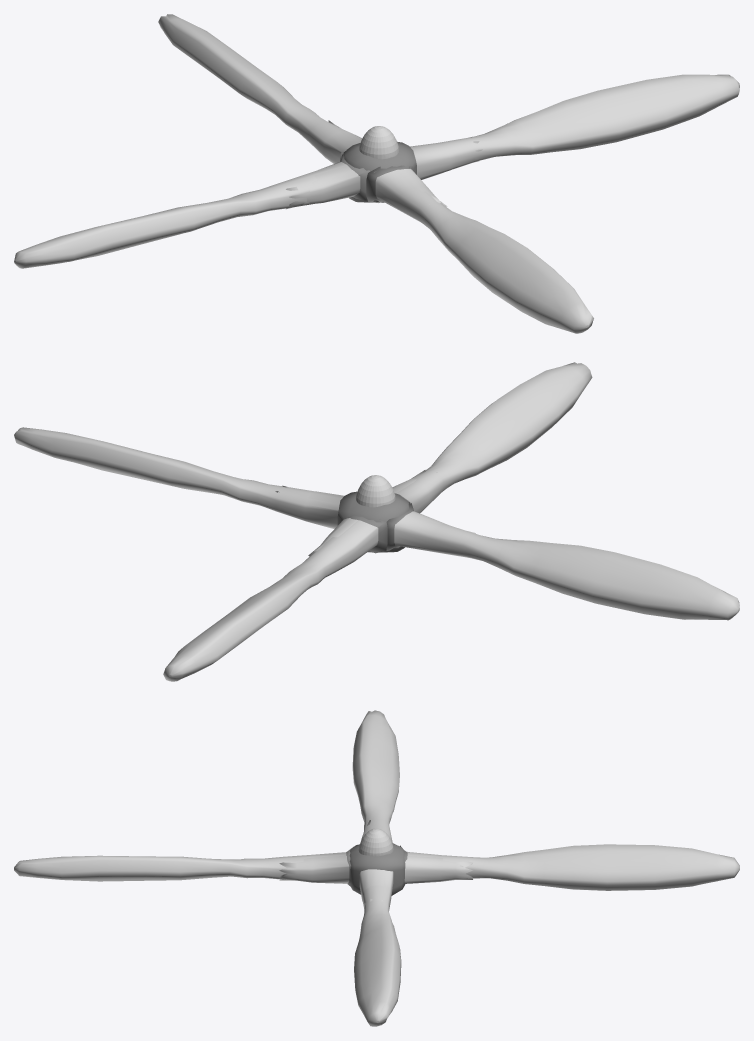
File: fullparts.fbx
3 views of the same model, one above another, from view 1: azimuth 30°, elevation 25°; view 2: azimuth 150°, elevation 25°; view 3: azimuth 270°, elevation 25° (orthographic). The views are drawn at different scales.
Visible parts, largest first — view 1: blade01, blade02, blade04, blade03, midle, bblade3, bblade; view 2: blade04, blade02, blade01, blade03, midle; view 3: blade03, blade02, blade01, blade04, midle, bblade1, bblade2, bblade.
Part boxes in pixels (<box>): blade01: <box>410,74,739,169</box>; blade02: <box>366,165,593,333</box>; blade04: <box>14,154,367,268</box>; blade03: <box>158,14,357,163</box>; midle: <box>343,126,416,202</box>; bblade3: <box>286,165,370,209</box>; bblade: <box>410,136,482,179</box>; blade04: <box>386,503,739,620</box>; blade02: <box>396,362,592,513</box>; blade01: <box>14,427,339,529</box>; blade03: <box>163,515,387,681</box>; midle: <box>337,475,409,552</box>; blade03: <box>400,844,739,890</box>; blade02: <box>14,846,354,881</box>; blade01: <box>354,870,401,1026</box>; blade04: <box>352,710,399,845</box>; midle: <box>349,828,405,895</box>; bblade1: <box>279,855,350,886</box>; bblade2: <box>404,856,472,883</box>; bblade: <box>359,869,392,906</box>.
Size of the model in its own units: 13.29 by 1.22 by 13.31.
